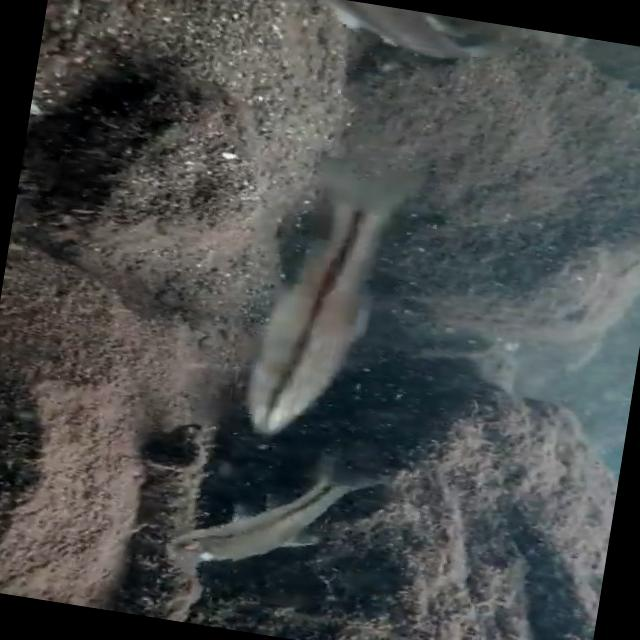Cakil Baligi: (214, 144, 436, 454), (159, 430, 389, 600)
